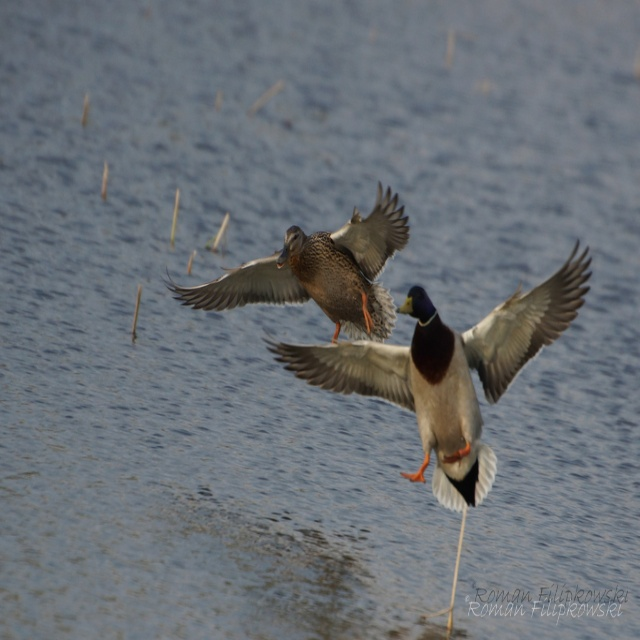Duck: (263, 236, 596, 540), (170, 190, 417, 351)
